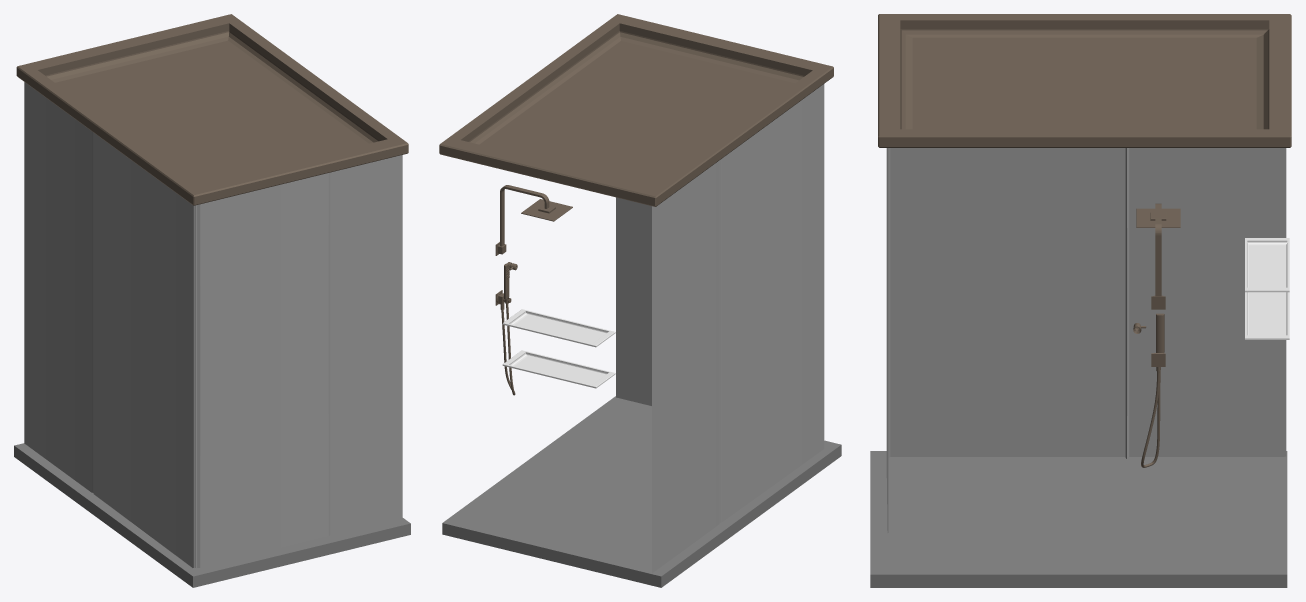
The model's file is Shower_11.7.fbx.
The picture shows the model from 3 angles, left to right: view 1: azimuth 30°, elevation 25°; view 2: azimuth 150°, elevation 25°; view 3: azimuth 270°, elevation 25°; orthographic projection. The views are drawn at different scales.
Parts seen in each view (by area): view 1: Shower1; view 2: Shower1; view 3: Shower1.
Boxes of the visible parts, x1=… form: Shower1: x1=14, y1=14, x2=410, y2=587; Shower1: x1=439, y1=14, x2=841, y2=587; Shower1: x1=870, y1=14, x2=1291, y2=587.
Size of the model in its own units: 267 by 452 by 381.
